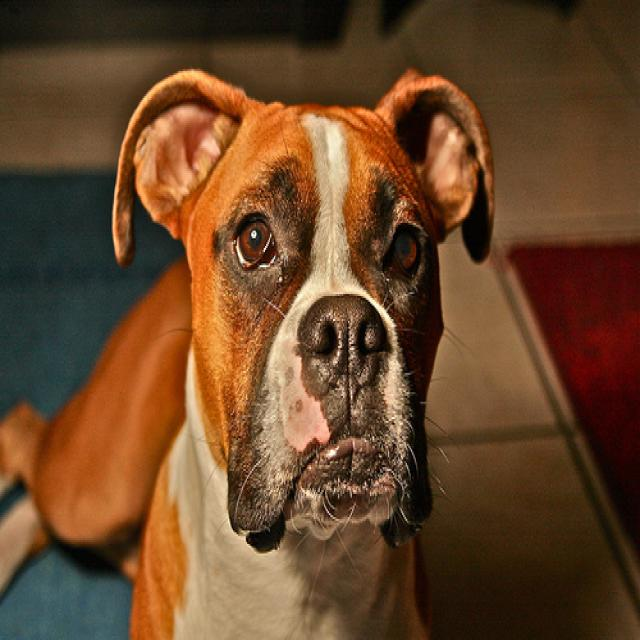dog-boxer: (1, 56, 503, 636)
